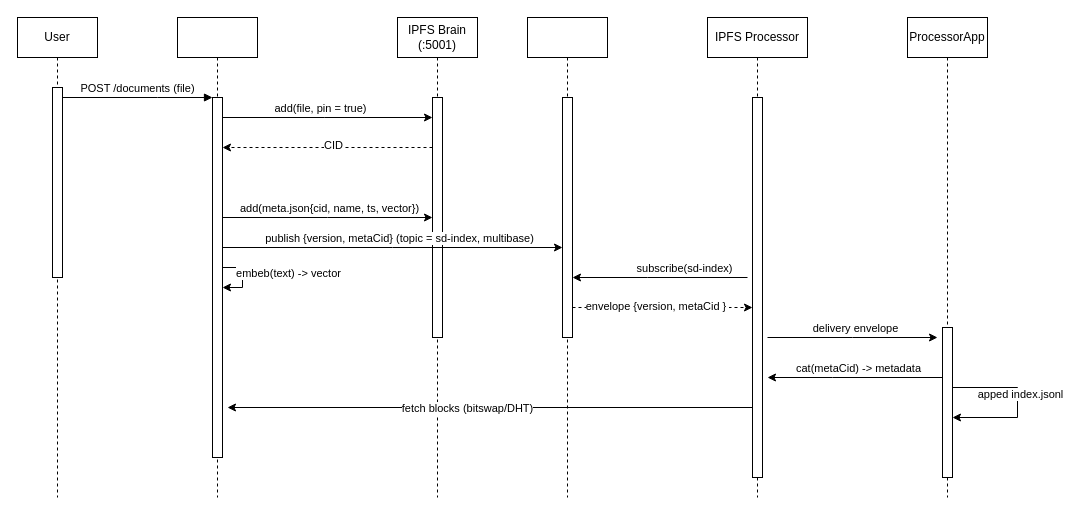
Some shapes in this 1080 by 515 pixel diagram are drawn without their labels. Here are the shapes that lost their labels. From the top down, the box of each, then its label:
(176, 16, 258, 498): Brain API (:8080)
(526, 16, 608, 498): GossipSub sd-index
